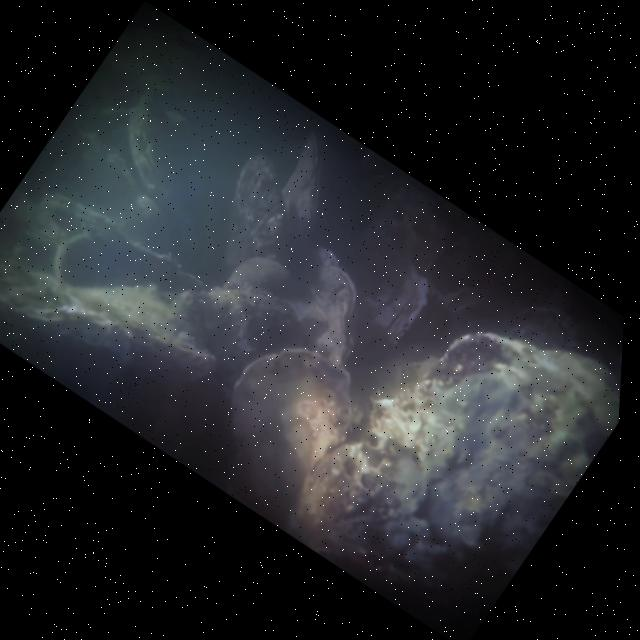Oyster-Closed: (41, 188, 208, 290), (354, 238, 429, 349), (305, 242, 360, 365), (129, 84, 174, 202), (285, 132, 324, 237)
Oyster-Indeterminate: (283, 332, 620, 602), (229, 345, 353, 535), (221, 152, 288, 269), (51, 231, 92, 286)
